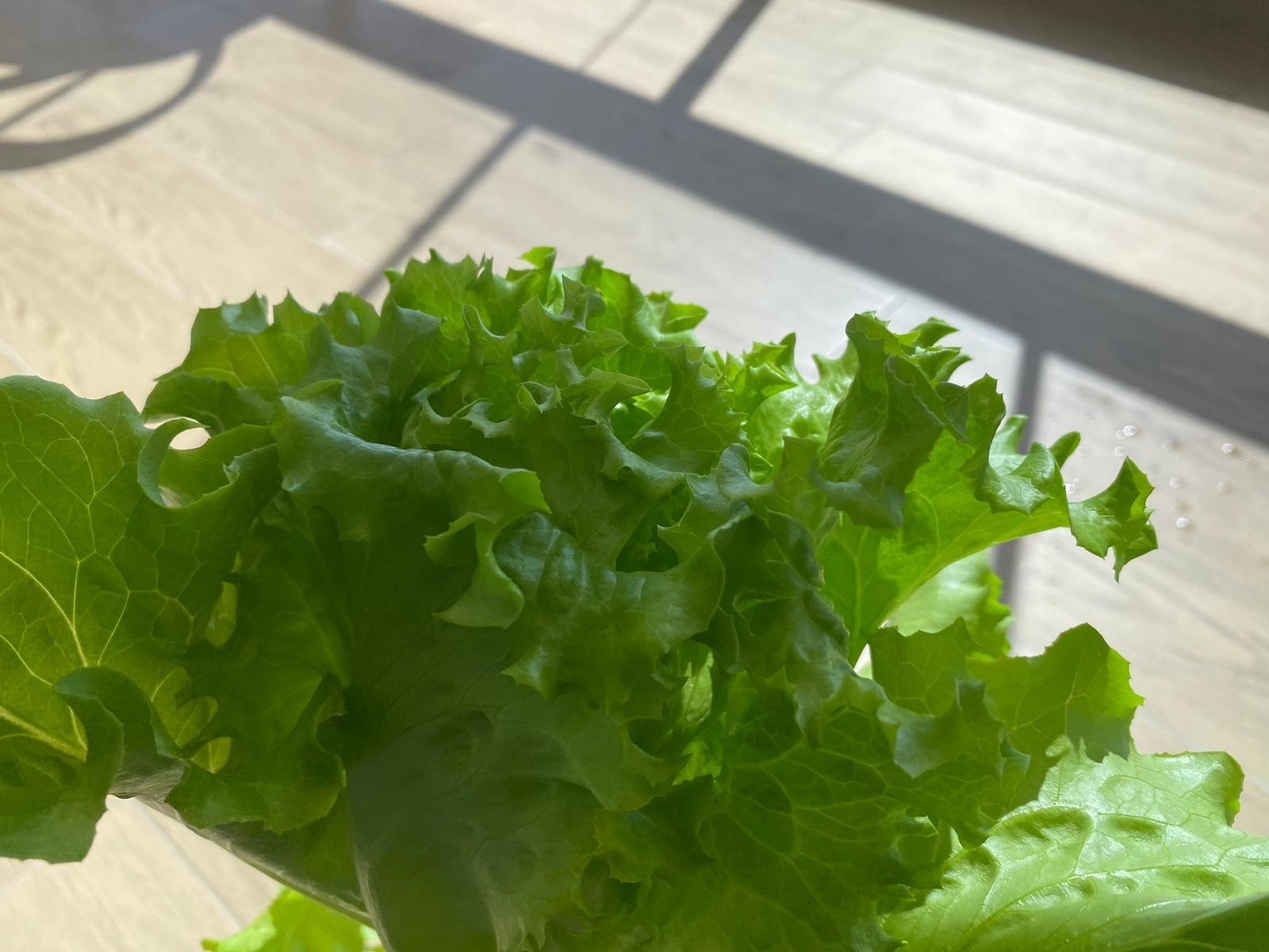Healthy: (0, 242, 1269, 952)
